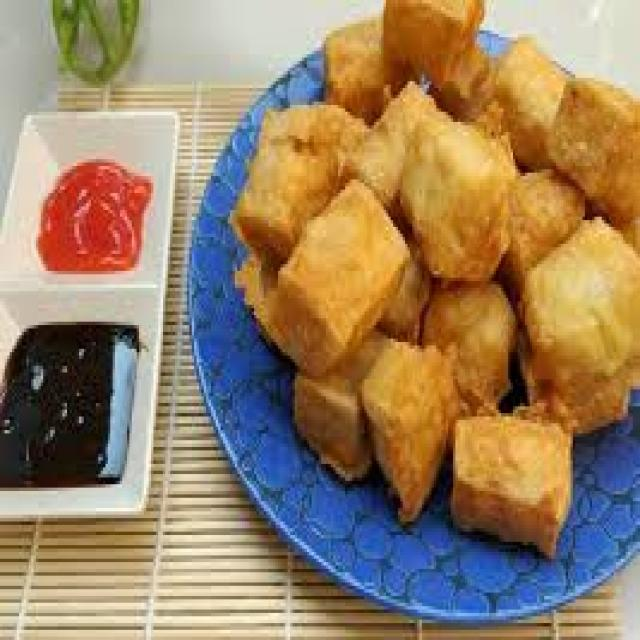Tahu Goreng: (265, 56, 615, 532)
